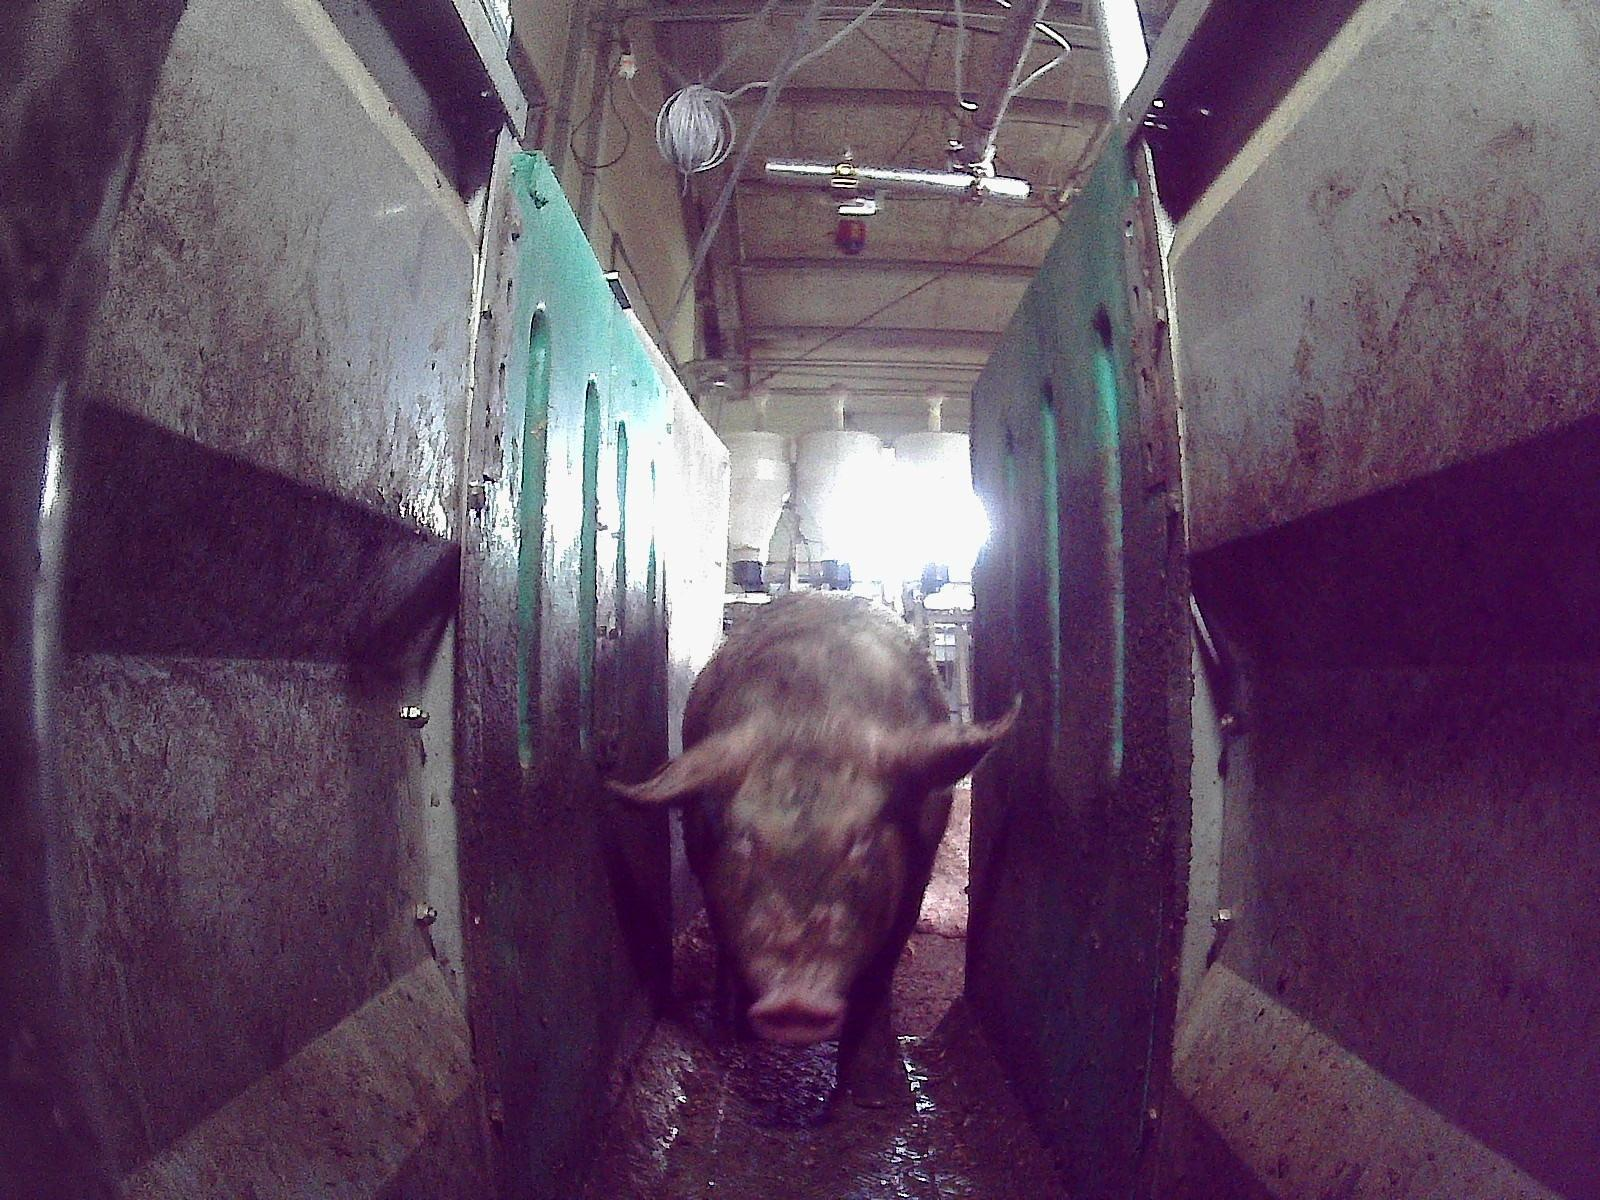Face: (690, 718, 918, 1044)
